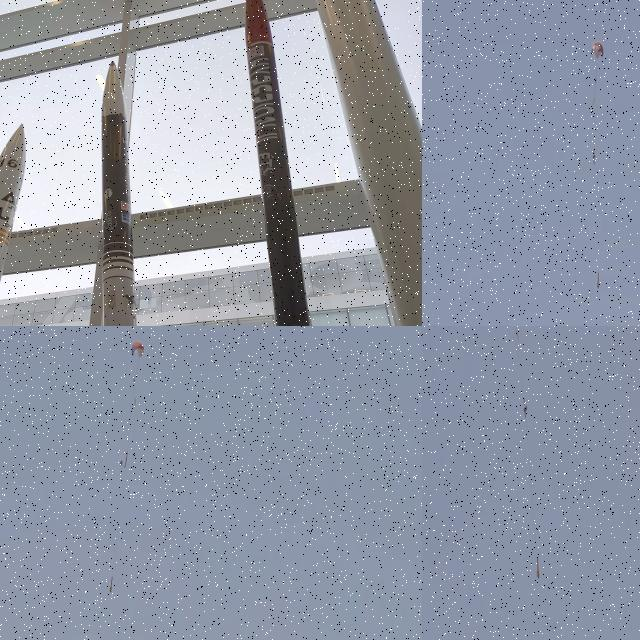Rocket: (245, 0, 310, 326), (101, 61, 137, 326), (536, 557, 540, 579), (596, 272, 600, 288), (110, 576, 113, 592)
